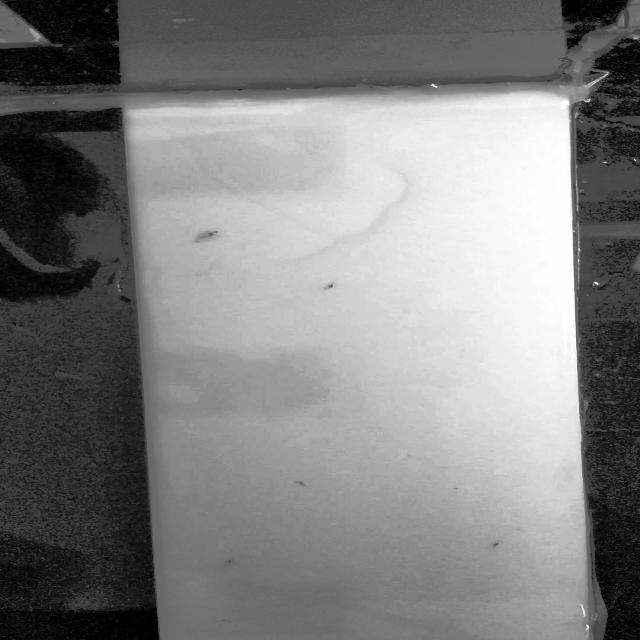shrimp: (281, 472, 325, 497), (185, 225, 228, 246), (313, 279, 352, 302), (209, 552, 249, 573), (476, 538, 513, 554), (212, 614, 238, 630)
